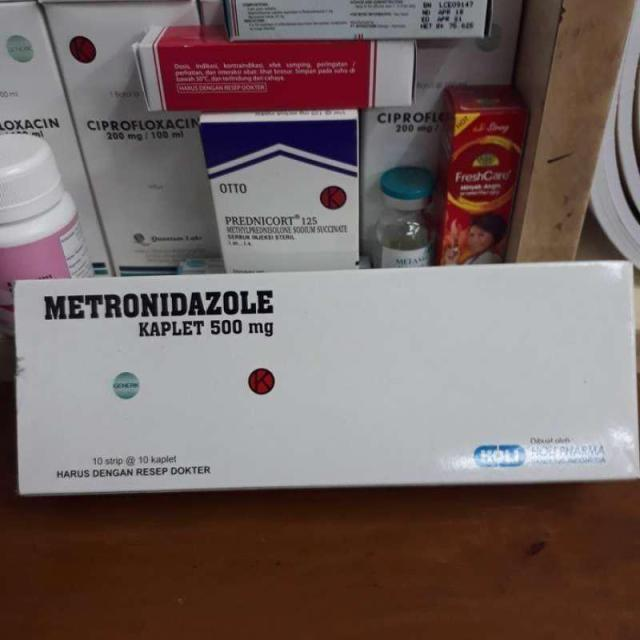drug-name: (41, 286, 282, 320)
